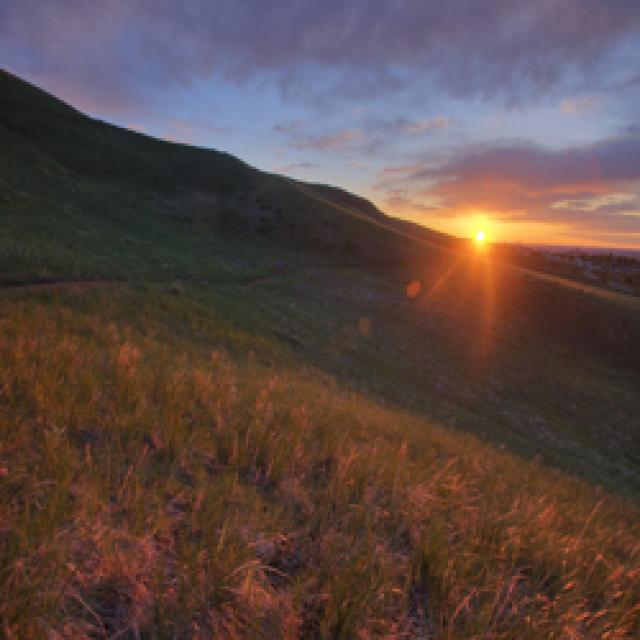light: (464, 217, 502, 273)
